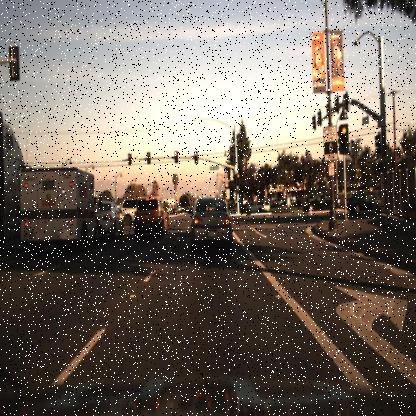car: (15, 158, 102, 248), (186, 193, 235, 257), (131, 191, 178, 242), (97, 200, 125, 240), (298, 188, 338, 215), (118, 190, 137, 226), (242, 196, 272, 217)
trafficLight-Red: (338, 121, 348, 136), (192, 147, 200, 163), (124, 149, 132, 162), (234, 171, 242, 181), (173, 148, 179, 160), (146, 148, 151, 160)
